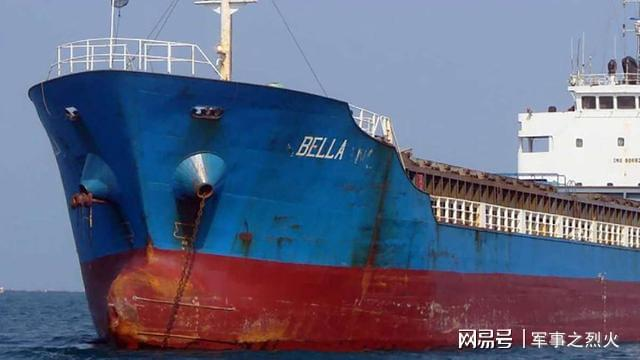Cargoship: (26, 4, 640, 346)
